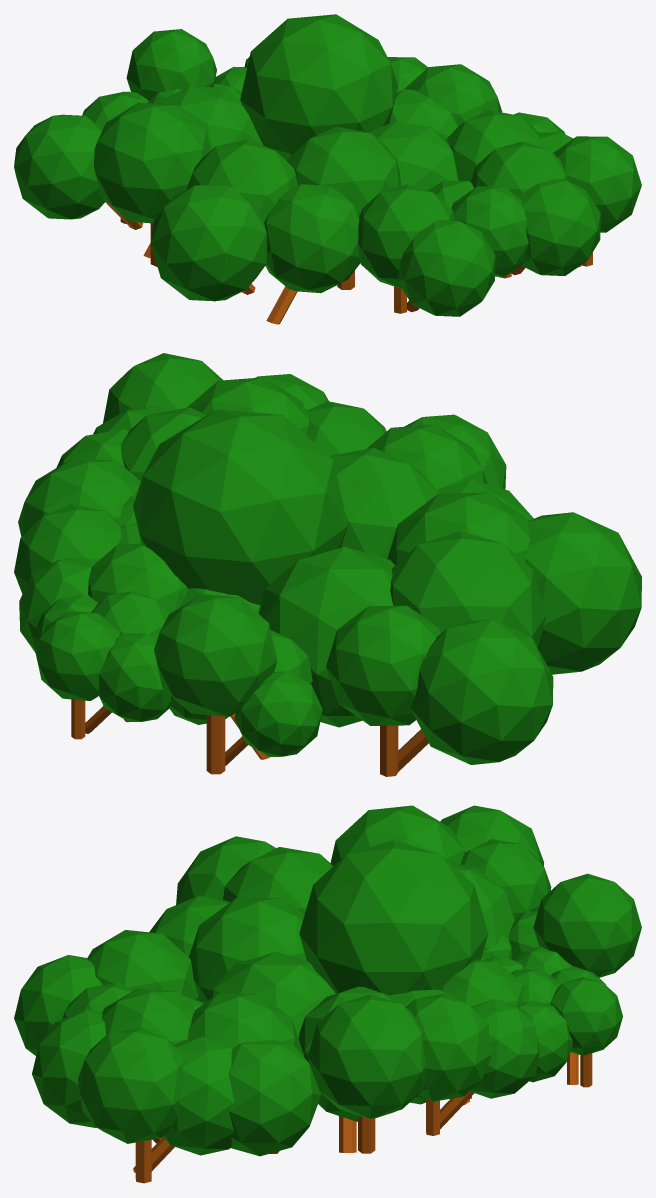
Rendered from kystiki_.fbx.
3 views of the same model, one above another, from view 1: azimuth 30°, elevation 25°; view 2: azimuth 150°, elevation 25°; view 3: azimuth 270°, elevation 25° (orthographic). The views are drawn at different scales.
Visible parts, largest first — view 1: Icosphere.008, Cylinder.010; view 2: Icosphere.008, Cylinder.010; view 3: Icosphere.008, Cylinder.010.
Part boxes in pixels (x1,y1,x2,y2): Icosphere.008: (14,14,641,316); Cylinder.010: (105,201,592,324); Icosphere.008: (14,353,641,764); Cylinder.010: (71,699,428,776); Icosphere.008: (14,805,641,1156); Cylinder.010: (133,1052,592,1183).
Size of the model in its own units: 1218 by 1213 by 546.
